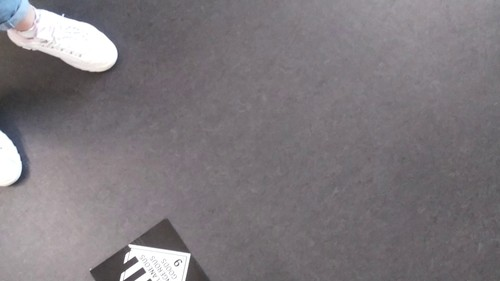misgoods: (117, 238, 190, 281)
